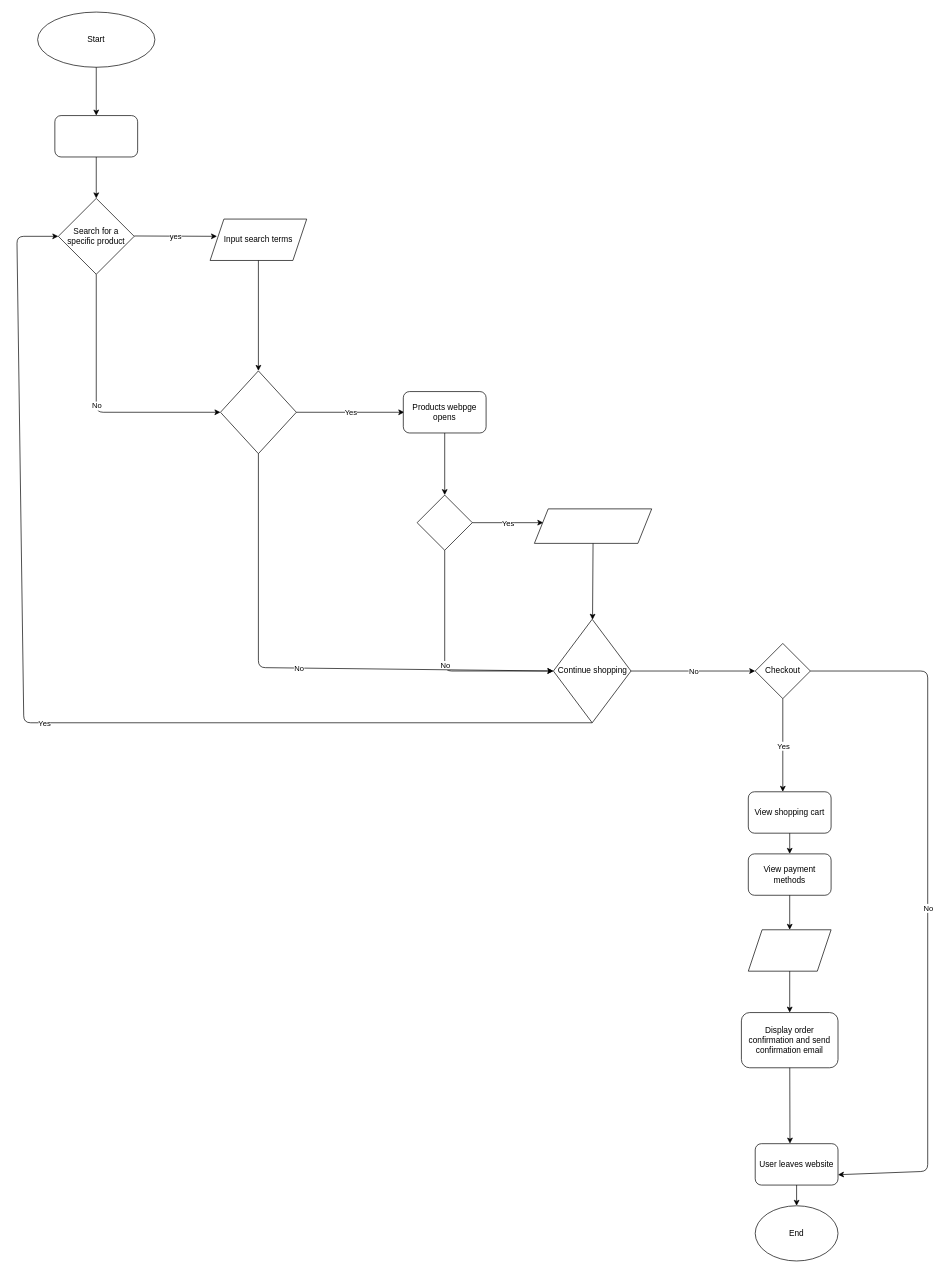
Image size: 945x1273. Some labels were removed from this diagram. Each missing label, with the centre of its shape:
"Add to cart" goes at (444,522).
"Display added to cart" goes at (593,525).
"input payment method" goes at (789,950).
"User enters website" goes at (96,136).
"View product?" goes at (258,412).
